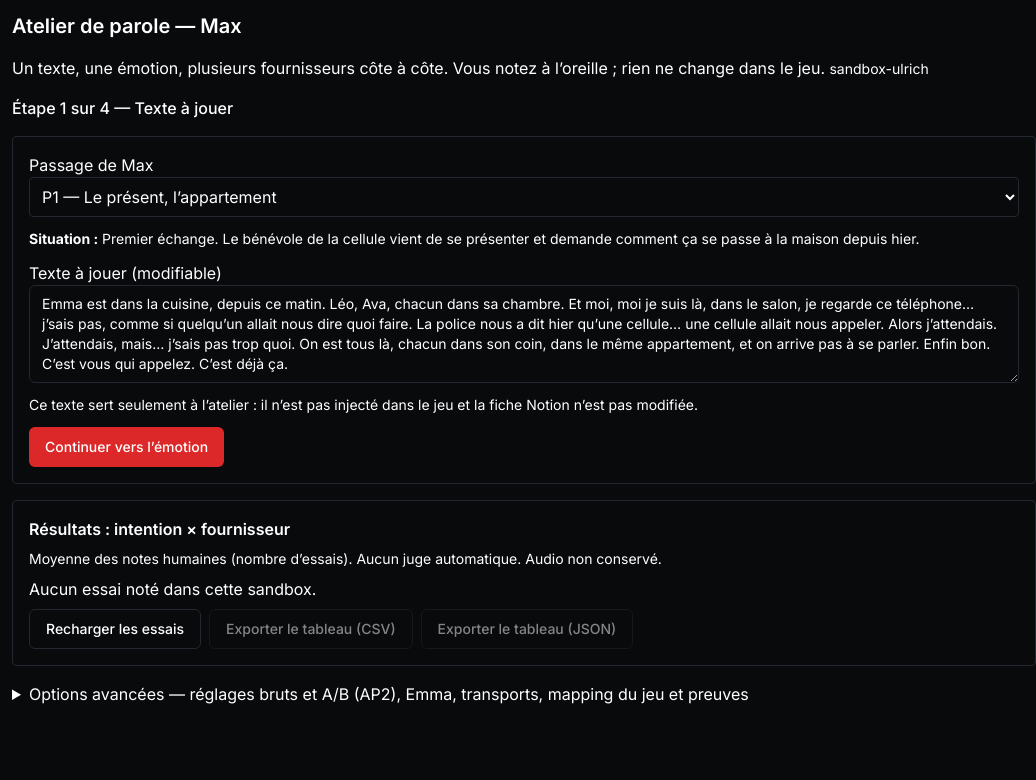
Test: AP4 — intent workshop › opens on the text step with the situation, no audio, and the AP2 bench folded and unmounted
Expected: the text named "Étape courante" reads "Étape 1 sur 4 — Texte à jouer", [12,96,233,120]
Expected: the text box labelled "Texte à jouer" holds "Emma est dans la cuisine, depuis ce matin. Léo, Ava, chacun dans sa chambre. Et moi, moi je suis là, dans le salon, je regarde ce téléphone… j’sais pas, comme s", [29,285,1019,383]
Select "Texte libre" in the dropdown labelled "Passage" at (524, 197), box [29,177,1019,217]
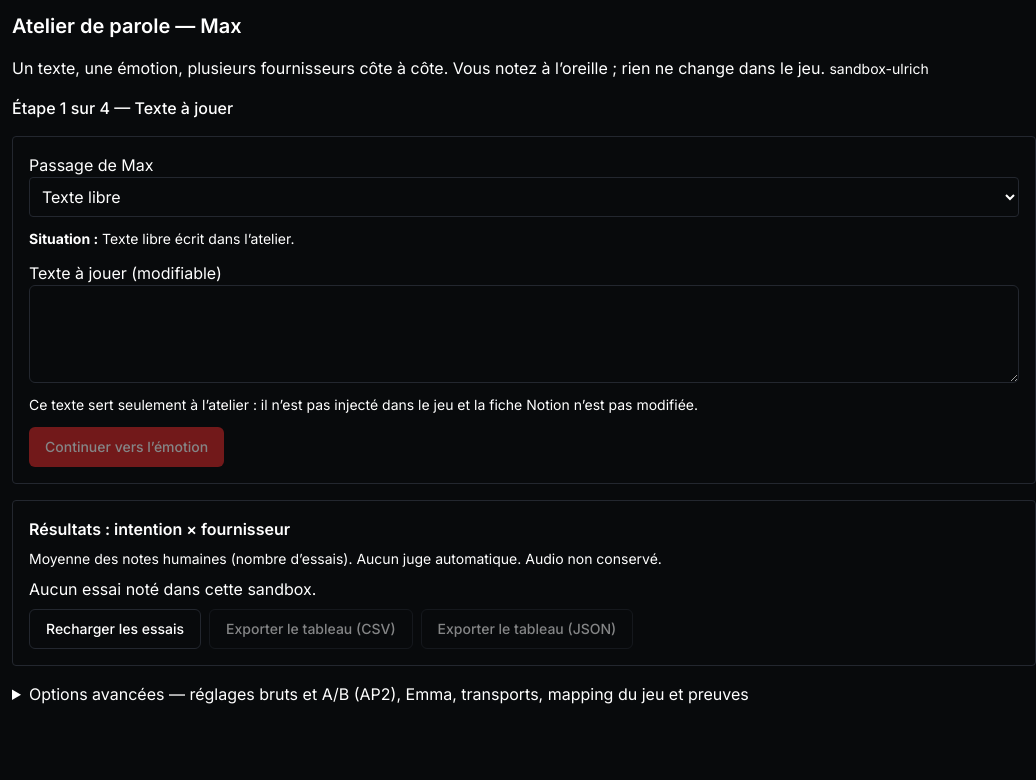
Expected: the text box labelled "Texte à jouer" is empty, [29,285,1019,383]
Expected: the button "Continuer vers l’émotion" is disabled, [29,427,224,467]
